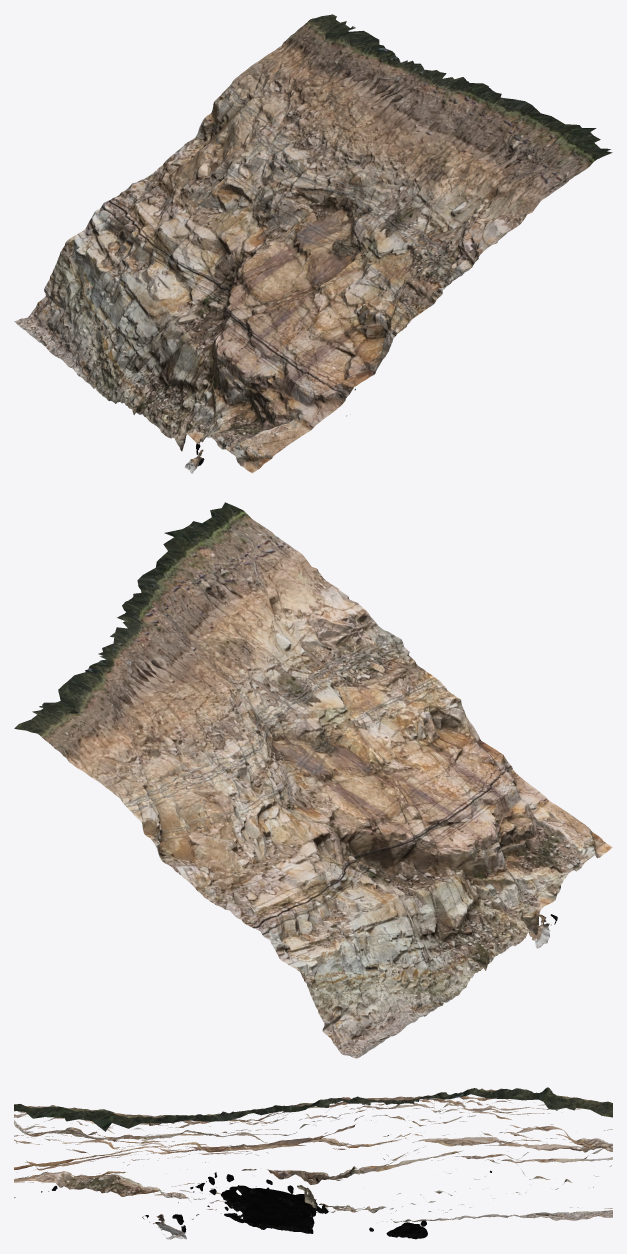
The picture shows the model from 3 angles, top to bottom: view 1: azimuth 30°, elevation 25°; view 2: azimuth 150°, elevation 25°; view 3: azimuth 270°, elevation 25°; orthographic projection. The views are drawn at different scales.
Size of the model in its own units: 9.34 by 6.5 by 10.11.
Materials: 3 (3 with a texture image).
